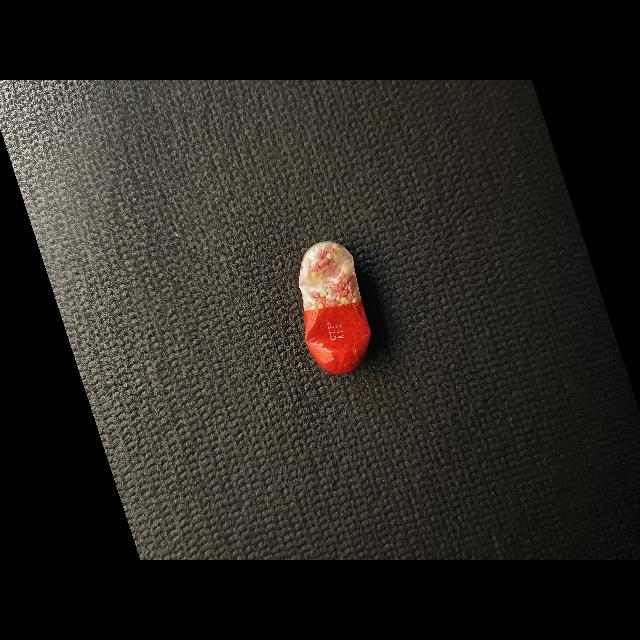Defective Capsule: (299, 241, 371, 375)
